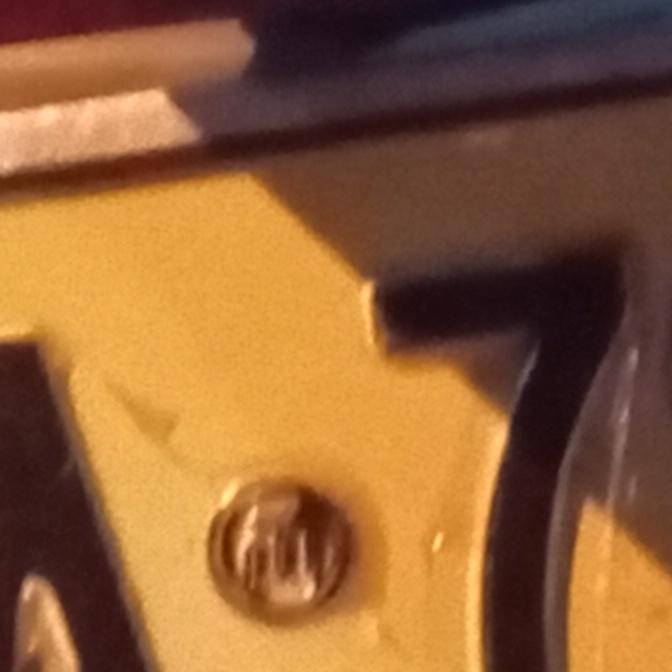plates: (0, 16, 672, 672)
